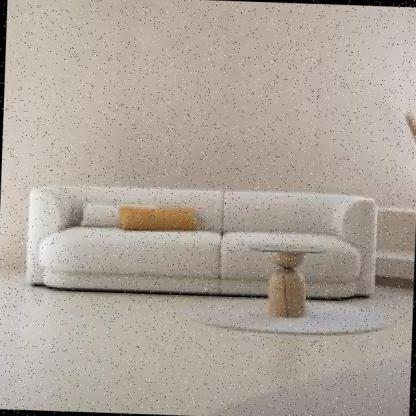Sofa: (6, 158, 402, 340)
